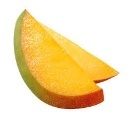mango: (14, 10, 120, 108)
